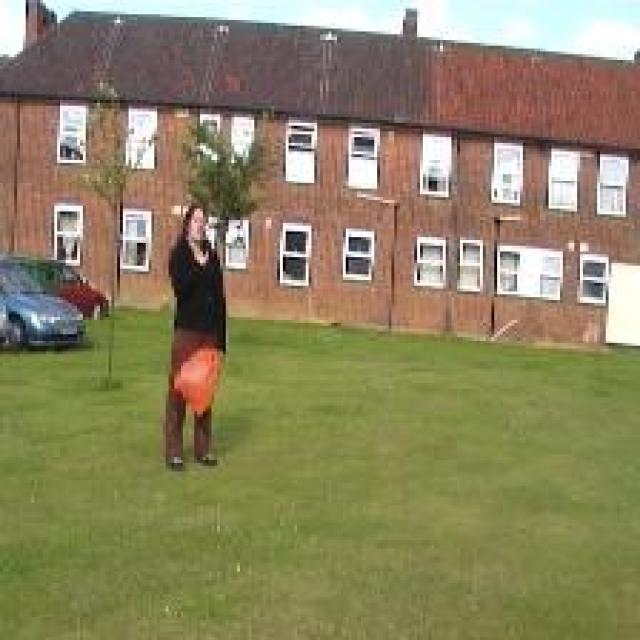other: (160, 332, 229, 421)
